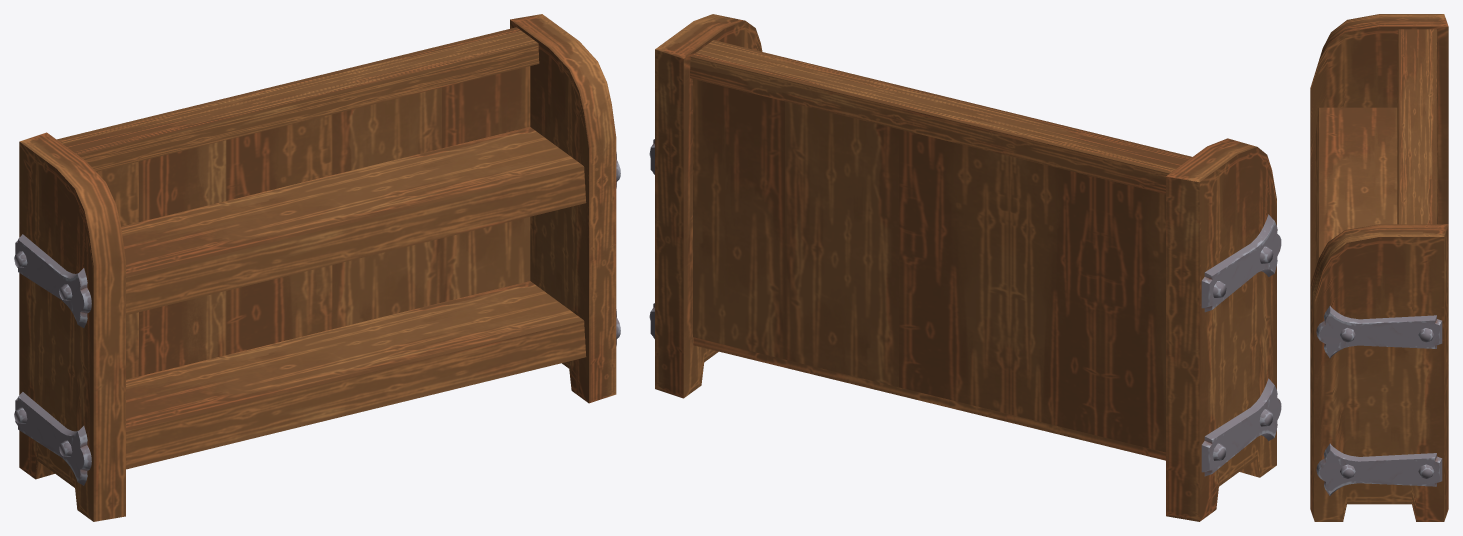
The model's file is Shelf_Small.fbx.
3 views of the same model, side by side, from view 1: azimuth 30°, elevation 25°; view 2: azimuth 150°, elevation 25°; view 3: azimuth 270°, elevation 25° (orthographic). The views are drawn at different scales.
Visible parts, largest first — view 1: Shelf_Small; view 2: Shelf_Small; view 3: Shelf_Small.
Boxes of the visible parts, bbox=[...] form: Shelf_Small: bbox=[14, 14, 620, 521]; Shelf_Small: bbox=[649, 14, 1281, 521]; Shelf_Small: bbox=[1310, 14, 1448, 521].
Size of the model in its own units: 114 by 64.74 by 28.46.
